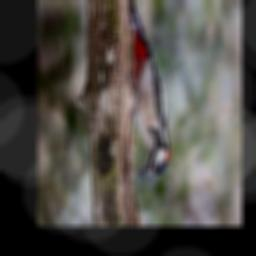Woodpecker: (128, 0, 169, 180)
